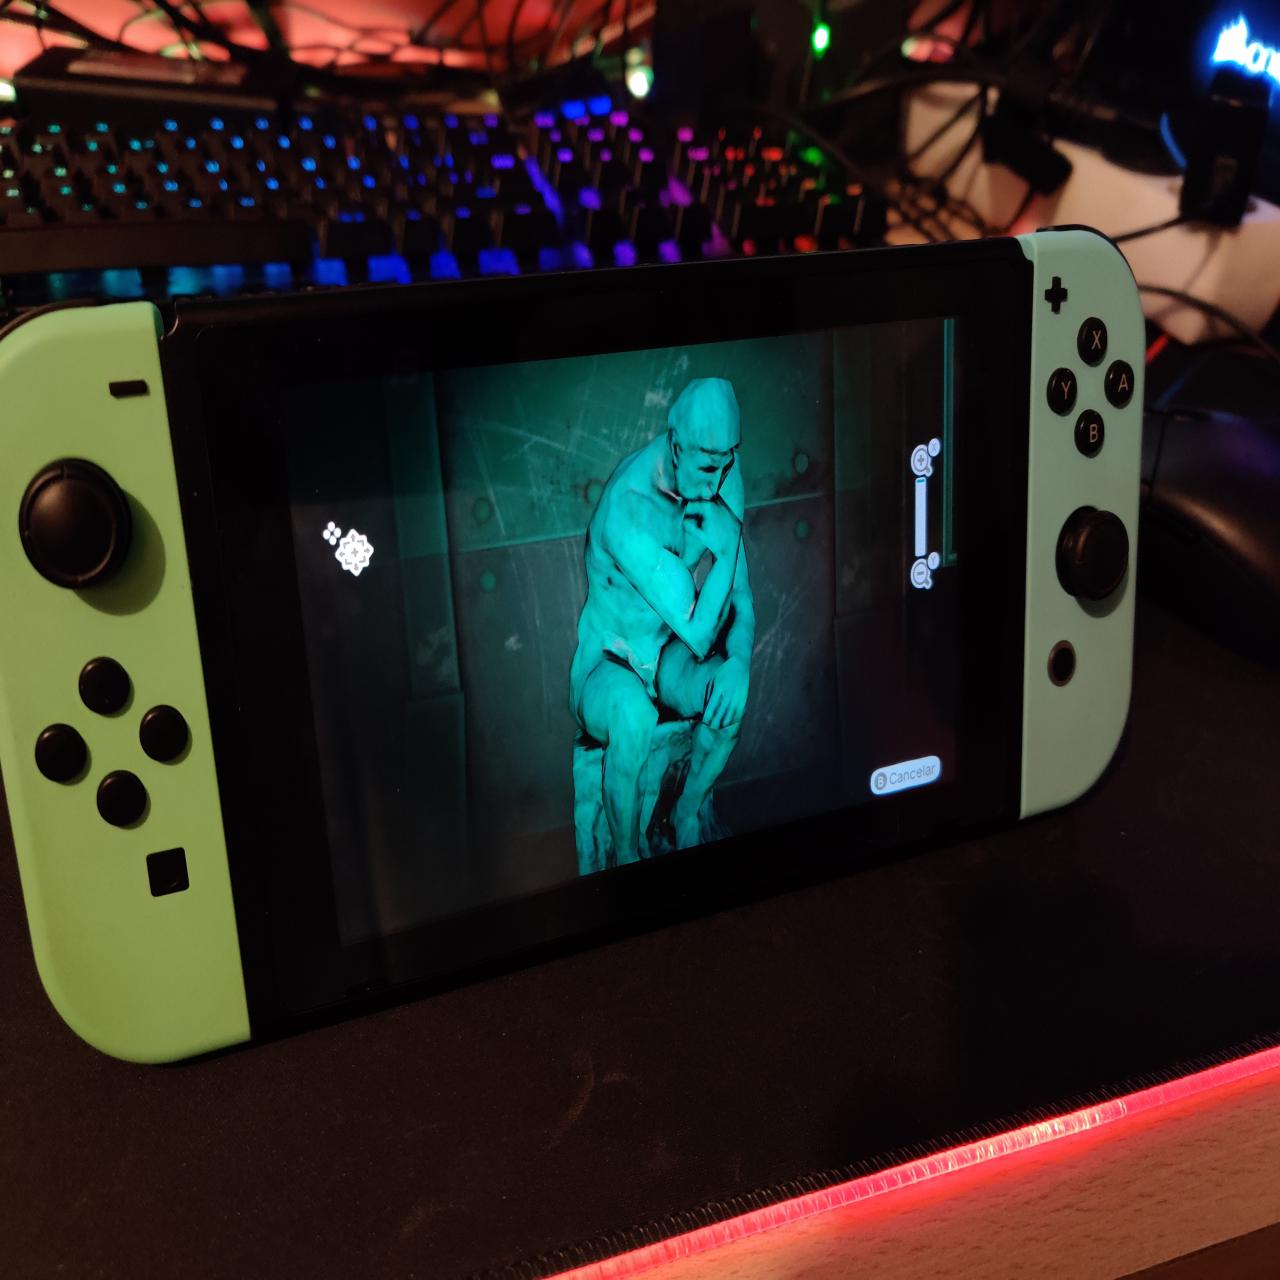Thinker: (560, 365, 765, 880)
